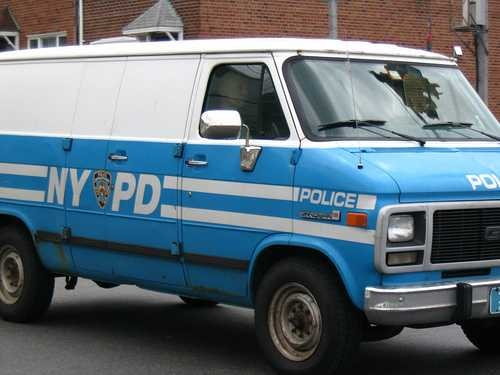Police Van: (8, 15, 500, 372)
